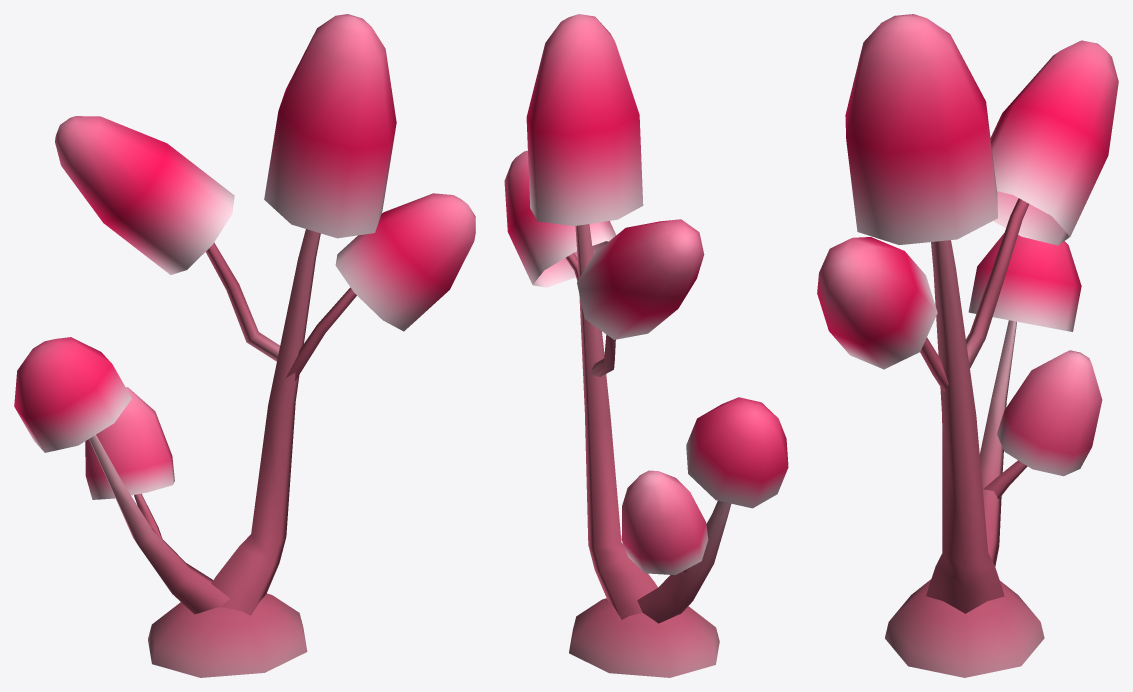
Rendered from MushroomPlant.glb.
3 views of the same model, side by side, from view 1: azimuth 30°, elevation 25°; view 2: azimuth 150°, elevation 25°; view 3: azimuth 270°, elevation 25° (orthographic). The views are drawn at different scales.
Parts seen in each view (by area): view 1: shrooms01; view 2: shrooms01; view 3: shrooms01.
Part boxes in pixels (x1,y1,x2,y2): shrooms01: (14,14,475,677); shrooms01: (504,14,788,677); shrooms01: (817,14,1118,677).
Bounding box in the file's own units: 0.3633 × 0.5856 × 0.2382.
Materials: 1 (1 with a texture image).
